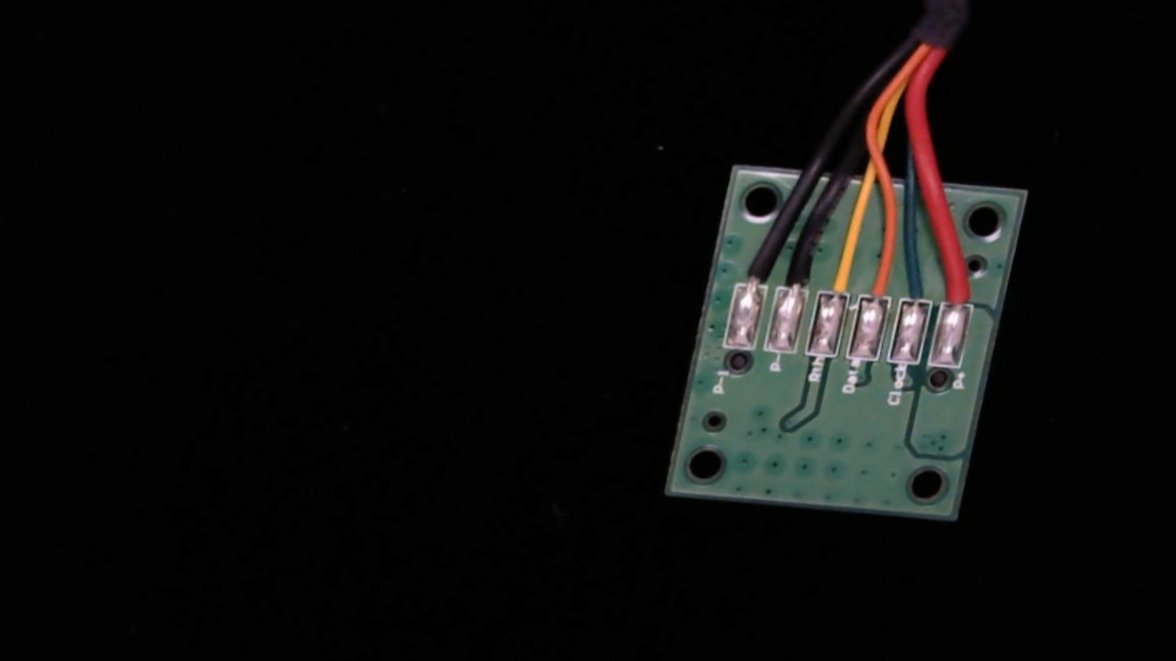Black: (772, 235, 821, 309)
Black1: (733, 240, 778, 302)
Green: (890, 247, 944, 322)
Orange: (850, 242, 903, 318)
Red: (932, 250, 986, 324)
Yellow: (813, 240, 861, 314)
